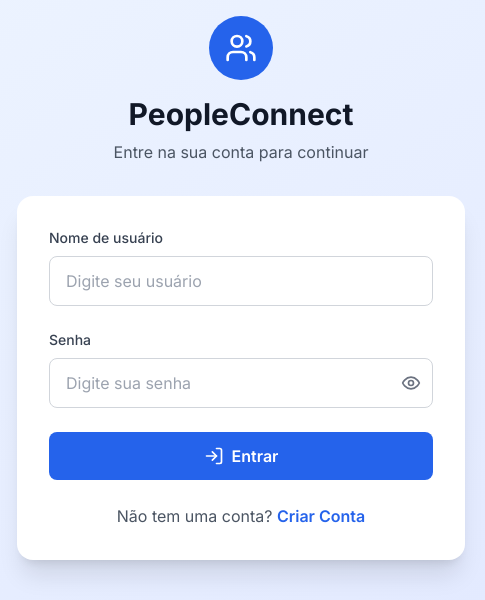
Test: LoginPage › deve exibir loading durante o login
This screenshot has width=485, height=600.
Type "testuser" into the field labelled "Nome de usuário" at (241, 281), box [49,256,433,306]
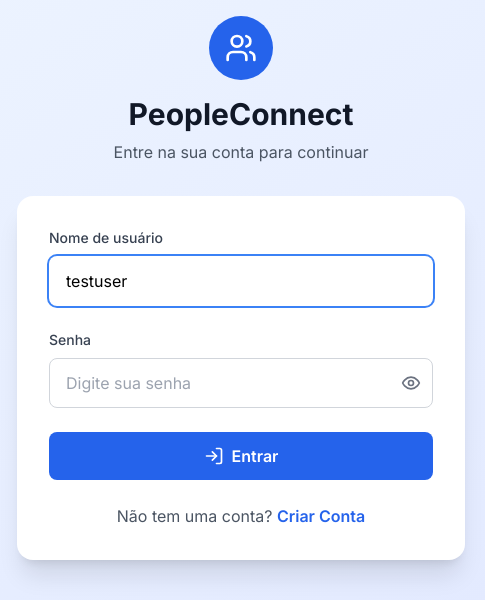
Type "password123" into the password field with placeholder "Digite sua senha" at (241, 383), box [49,358,433,408]
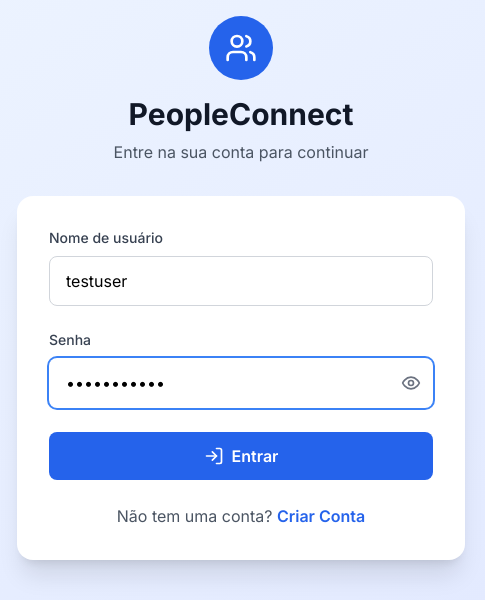
Click the button "Entrar" at (241, 456), box [49,432,433,480]
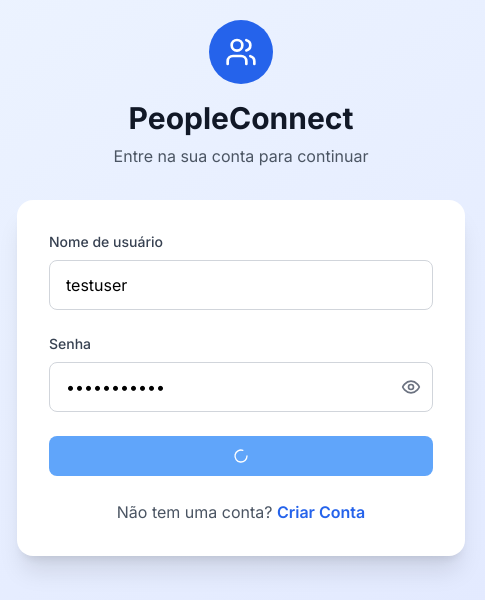
Expected: the button named "entrar" is disabled, [49,436,433,476]
